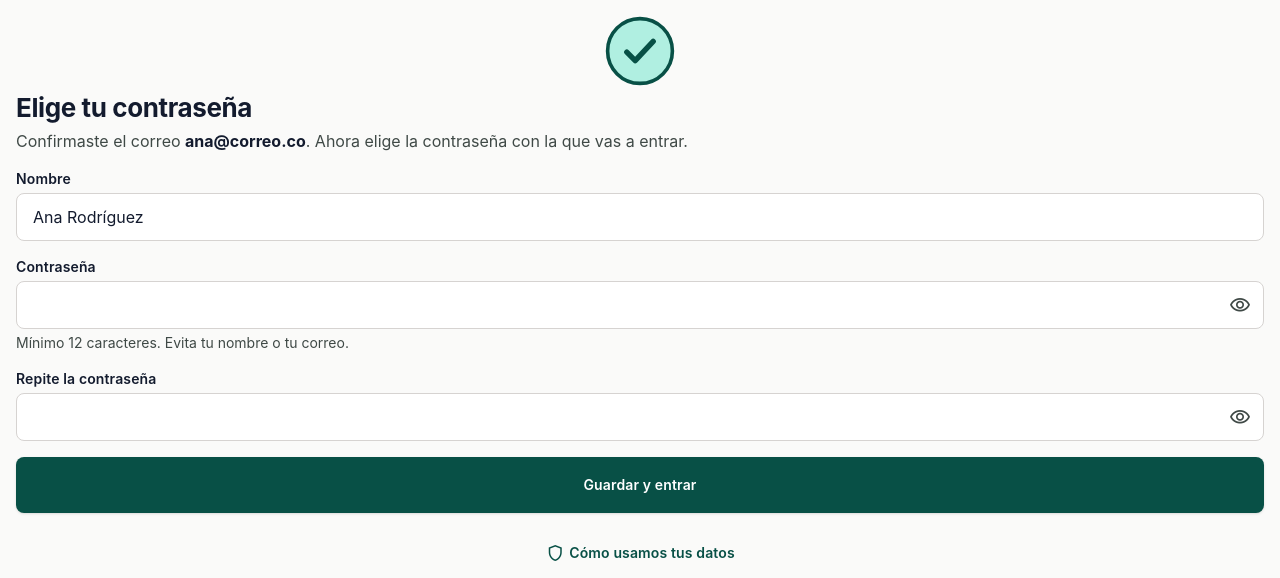
Test: un 404 al confirmar pasa al aviso de enlace vencido
Type "una frase larga" into the password field labelled "Contraseña".
click(640, 305); type("una frase larga")  # box left=16, top=281, right=1264, bottom=329
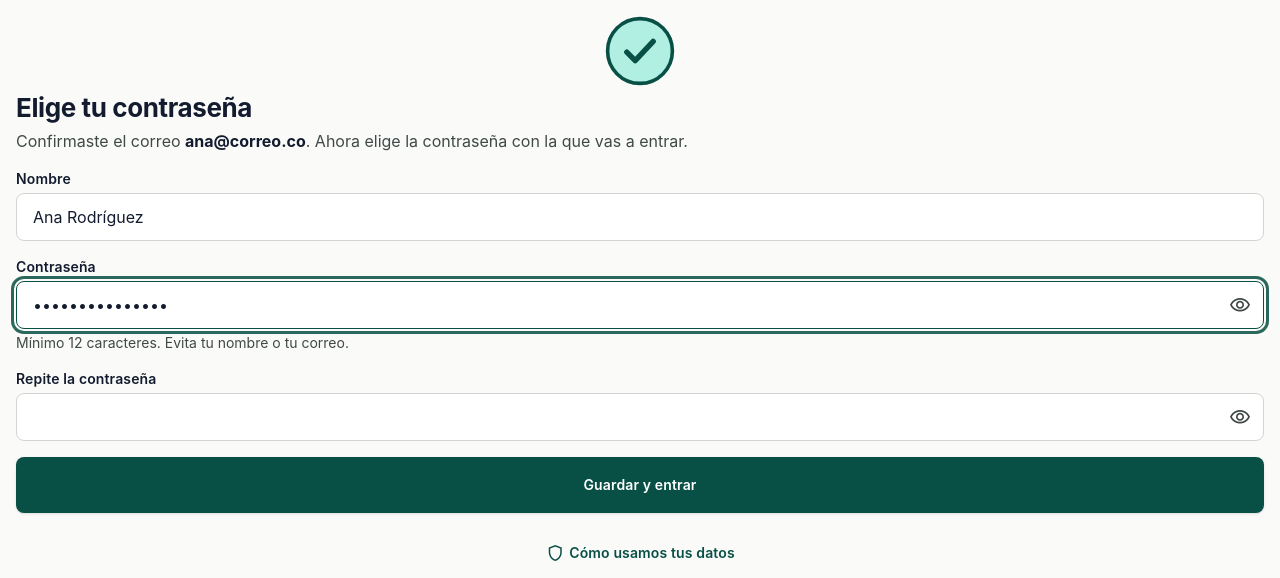
Type "una frase larga" into the password field labelled "Repite la contraseña".
click(640, 417); type("una frase larga")  # box left=16, top=393, right=1264, bottom=441
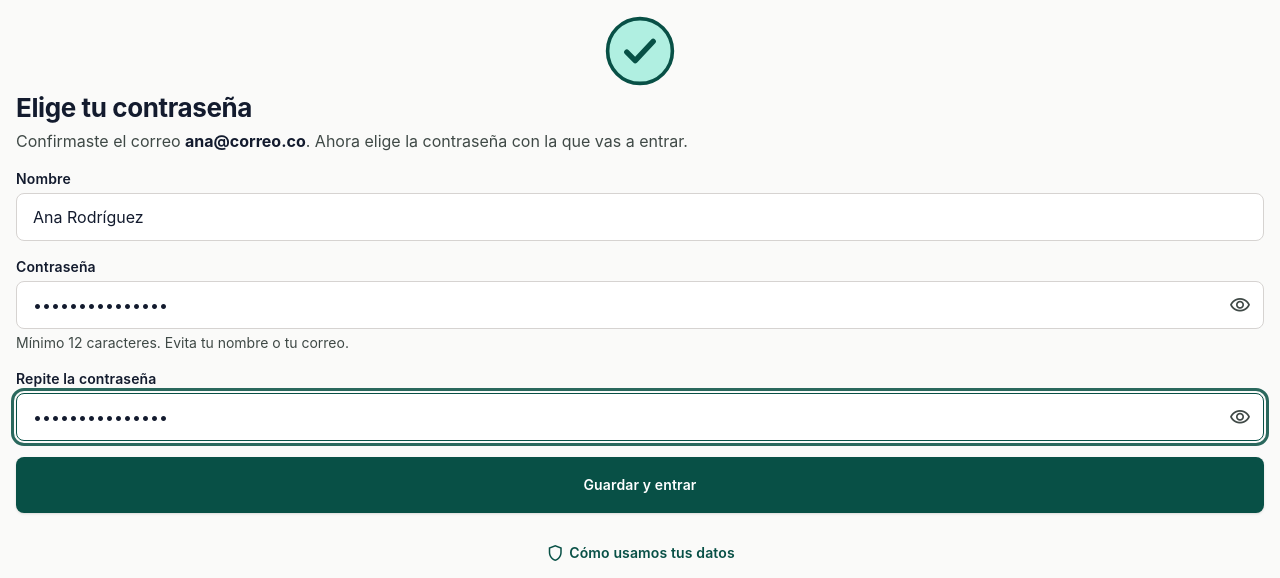
Click the button "Guardar y entrar".
click(640, 485)  # box left=16, top=457, right=1264, bottom=513
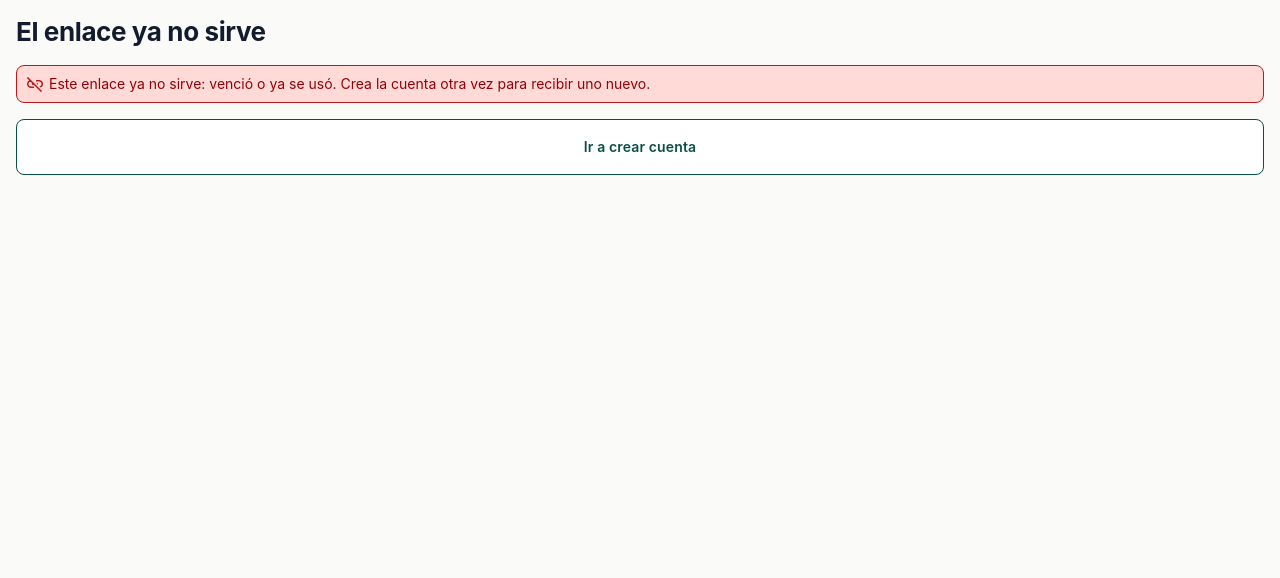
Now the message shows "Este enlace ya no sirve", box left=49, top=75, right=650, bottom=92
Now the heading labelled "contraseña" is gone
